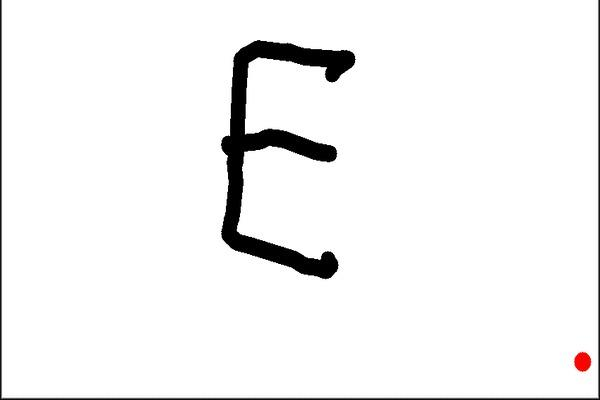E: (209, 30, 376, 281)
